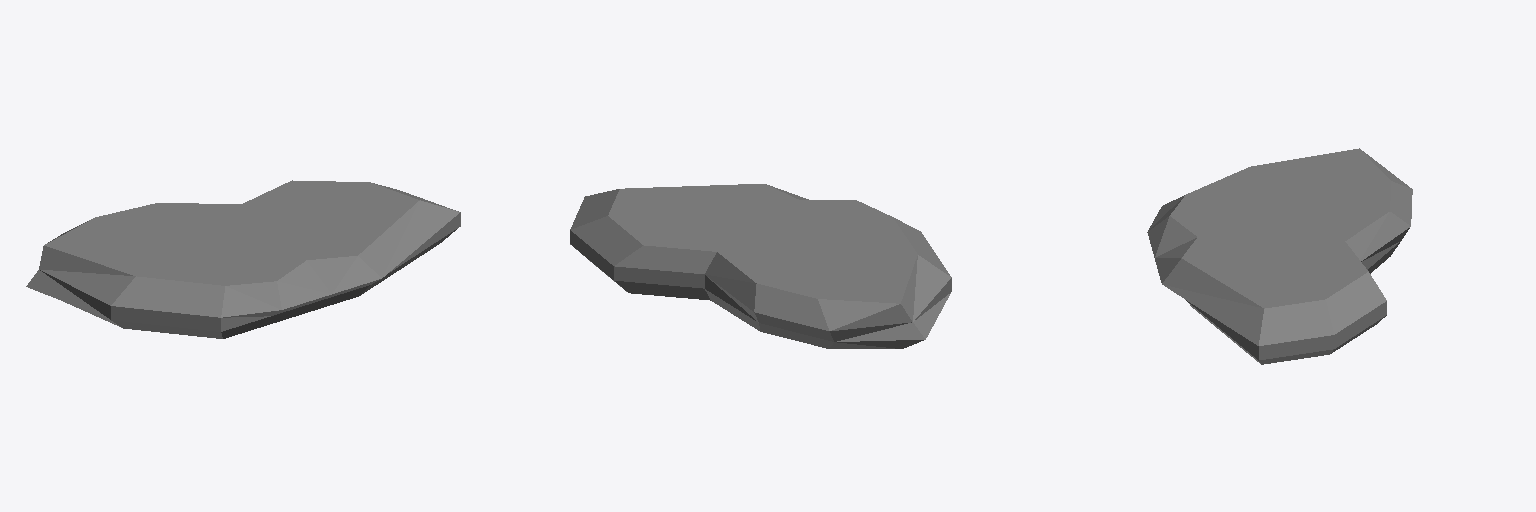
File: rock1.obj
3 views of the same model, side by side, from view 1: azimuth 30°, elevation 25°; view 2: azimuth 150°, elevation 25°; view 3: azimuth 270°, elevation 25° (orthographic).
Parts seen in each view (by area): view 1: Rock_1_Plane.008; view 2: Rock_1_Plane.008; view 3: Rock_1_Plane.008.
Boxes of the visible parts, x1=… form: Rock_1_Plane.008: x1=26, y1=180, x2=460, y2=338; Rock_1_Plane.008: x1=570, y1=184, x2=951, y2=348; Rock_1_Plane.008: x1=1147, y1=148, x2=1412, y2=364.
Size of the model in its own units: 3.46 by 0.4008 by 2.05.